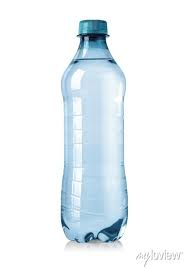PlasticBottle: (58, 17, 131, 247)
